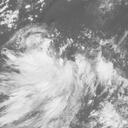cyclone: (25, 36, 82, 114)
